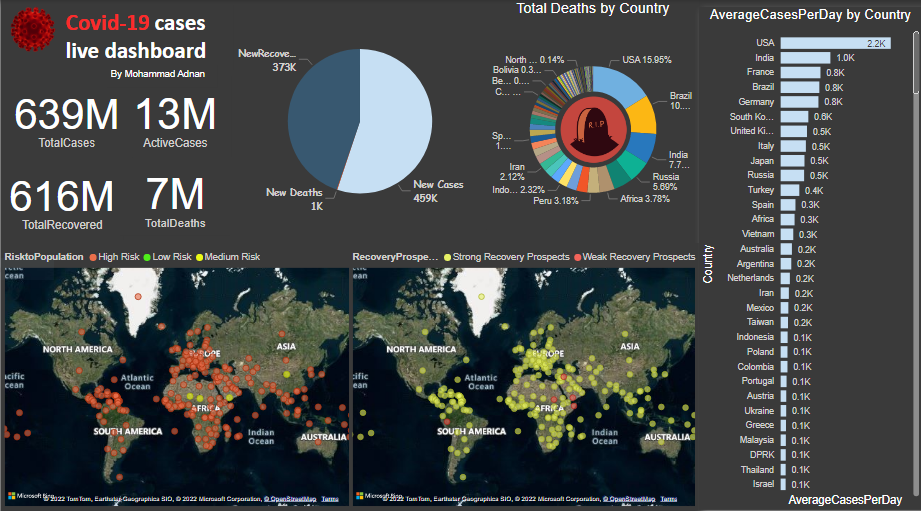

Layout of this report page (visuals, bound fields, positions):
{"tool":"powerbi","page":{"name":"Covid-19 Cases Dashboard","canvas":[1280,720],"ordinal":0},"visuals":[{"type":"card","fields":{"Values":["Sum(Today.TotalCases)"]},"box":[0,105.6,183.5,112.6],"z":0},{"type":"card","fields":{"Values":["Sum(Today.ActiveCases)"]},"box":[164,105.6,155.7,112.6],"z":1000},{"type":"card","fields":{"Values":["Sum(Today.TotalRecovered)"]},"box":[0,219.6,169.6,112.6],"z":2000},{"type":"card","fields":{"Values":["Sum(Today.TotalDeaths)"]},"box":[165.4,219.6,154.3,108.4],"z":3000},{"type":"card","fields":{"Values":["Sum(Today.Serious,Critical)"]},"box":[435.1,111.2,154.3,112.6],"z":4000},{"type":"pieChart","fields":{"Y":["Sum(Today.NewCases)","Sum(Today.New Deaths)","Sum(Today.NewRecovered)"]},"box":[322.5,18.5,352.8,300.7],"z":5000},{"type":"donutChart","title":"Total Deaths by Country","fields":{"Y":["Sum(Today.TotalDeaths)"],"Category":["Today.Country"]},"box":[675.5,0,294.7,337.8],"z":6000},{"type":"clusteredBarChart","fields":{"Y":["Sum(Today.AverageCasesPerDay)"],"Category":["Today.Country"]},"box":[969.9,9.9,310.6,698.8],"z":7000},{"type":"map","fields":{"Category":["Today.Country"],"Series":["Today.RisktoPopulation"]},"box":[0,337.8,499,371.1],"z":8000},{"type":"map","fields":{"Category":["Today.Country"],"Series":["Today.RecoveryProspects"]},"box":[483.7,337.8,486.5,371.1],"z":9000},{"type":"image","box":[768.6,125.1,109.8,109.8],"z":10000},{"type":"textbox","box":[84.8,6.9,237.7,89],"z":11000},{"type":"image","box":[0,0,87.6,80.6],"z":12000},{"type":"textbox","box":[147.3,90.3,152.9,30.6],"z":13000}]}

Visuals, with their boxes in screenshot pixels (x1, y1, x2, y2), scaled from the page's 1280x720 canvas onto the 921x511 screenshot:
card - Sum(Today.TotalCases): {"x1": 0, "y1": 75, "x2": 132, "y2": 155}
card - Sum(Today.ActiveCases): {"x1": 118, "y1": 75, "x2": 230, "y2": 155}
card - Sum(Today.TotalRecovered): {"x1": 0, "y1": 156, "x2": 122, "y2": 236}
card - Sum(Today.TotalDeaths): {"x1": 119, "y1": 156, "x2": 230, "y2": 233}
card - Sum(Today.Serious,Critical): {"x1": 313, "y1": 79, "x2": 424, "y2": 159}
pieChart - Sum(Today.NewCases) x Sum(Today.New Deaths): {"x1": 232, "y1": 13, "x2": 486, "y2": 227}
"Total Deaths by Country" donutChart: {"x1": 486, "y1": 0, "x2": 698, "y2": 240}
clusteredBarChart - Sum(Today.AverageCasesPerDay) x Today.Country: {"x1": 698, "y1": 7, "x2": 920, "y2": 503}
map - Today.Country x Today.RisktoPopulation: {"x1": 0, "y1": 240, "x2": 359, "y2": 503}
map - Today.Country x Today.RecoveryProspects: {"x1": 348, "y1": 240, "x2": 698, "y2": 503}
image: {"x1": 553, "y1": 89, "x2": 632, "y2": 167}
textbox: {"x1": 61, "y1": 5, "x2": 232, "y2": 68}
image: {"x1": 0, "y1": 0, "x2": 63, "y2": 57}
textbox: {"x1": 106, "y1": 64, "x2": 216, "y2": 86}
